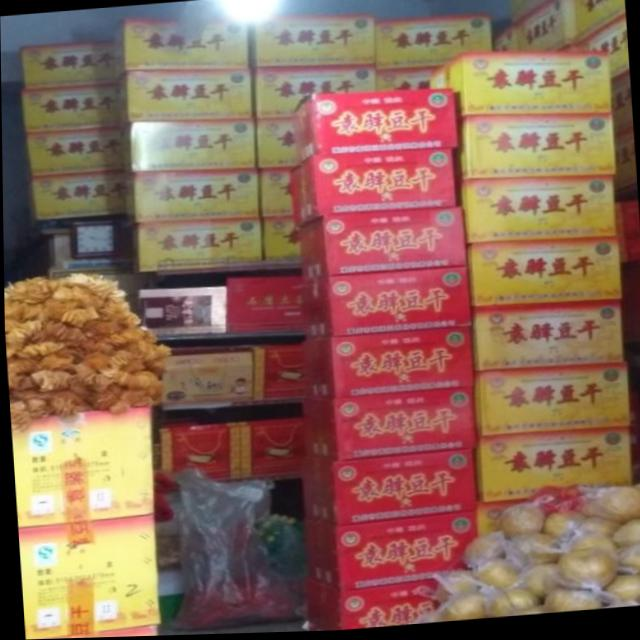box: (17, 516, 158, 640), (12, 408, 152, 528), (301, 450, 474, 528), (304, 515, 476, 592), (288, 151, 456, 229), (301, 391, 478, 461), (300, 268, 471, 340), (295, 208, 466, 279), (293, 90, 458, 163), (473, 366, 629, 443), (301, 330, 474, 399), (429, 54, 613, 118), (476, 431, 632, 504), (471, 302, 624, 376), (454, 179, 616, 247), (452, 117, 616, 183), (465, 243, 620, 309), (112, 18, 249, 79), (302, 576, 440, 633), (115, 70, 252, 126), (132, 217, 262, 274), (118, 120, 255, 174), (124, 170, 260, 224), (254, 66, 376, 121), (375, 17, 492, 71), (254, 16, 375, 68), (159, 346, 252, 410), (158, 422, 241, 483), (25, 127, 123, 176), (30, 172, 126, 221), (21, 83, 118, 131), (19, 41, 116, 88), (225, 276, 302, 335), (233, 417, 304, 480), (138, 288, 227, 337), (561, 19, 628, 81), (241, 345, 302, 402), (517, 0, 574, 55), (573, 0, 625, 46), (255, 118, 298, 171), (475, 502, 531, 540), (25, 625, 156, 640), (261, 218, 300, 267), (257, 170, 293, 218), (613, 205, 640, 268), (613, 133, 636, 205), (620, 265, 640, 345), (611, 72, 632, 141), (376, 70, 431, 92), (487, 24, 519, 56), (510, 0, 553, 23)
